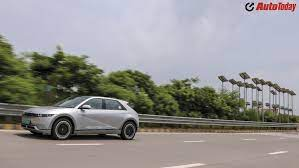Honda Ioniq: (10, 90, 144, 152)
